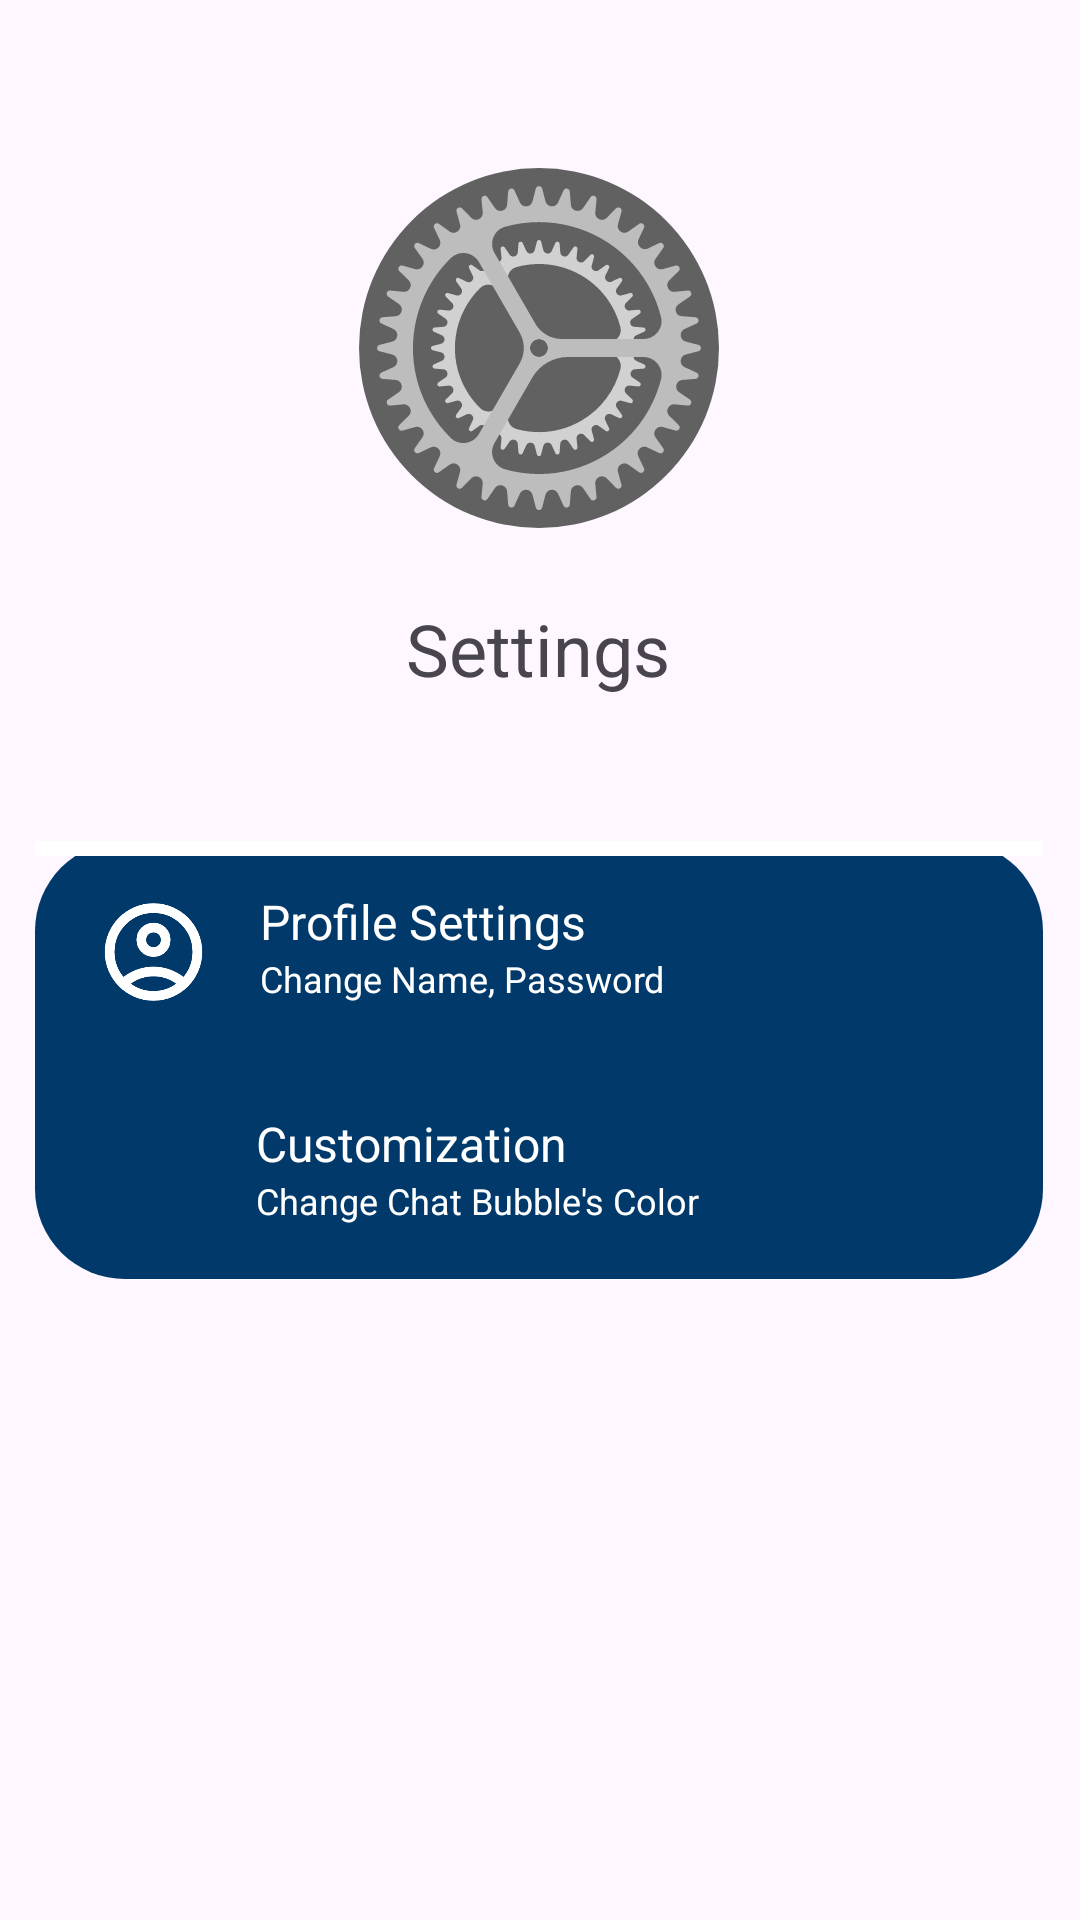

Named icons in this screenshot (1080w x 1920h) and their centers, point (x, y):
account circle: point (153, 952)
